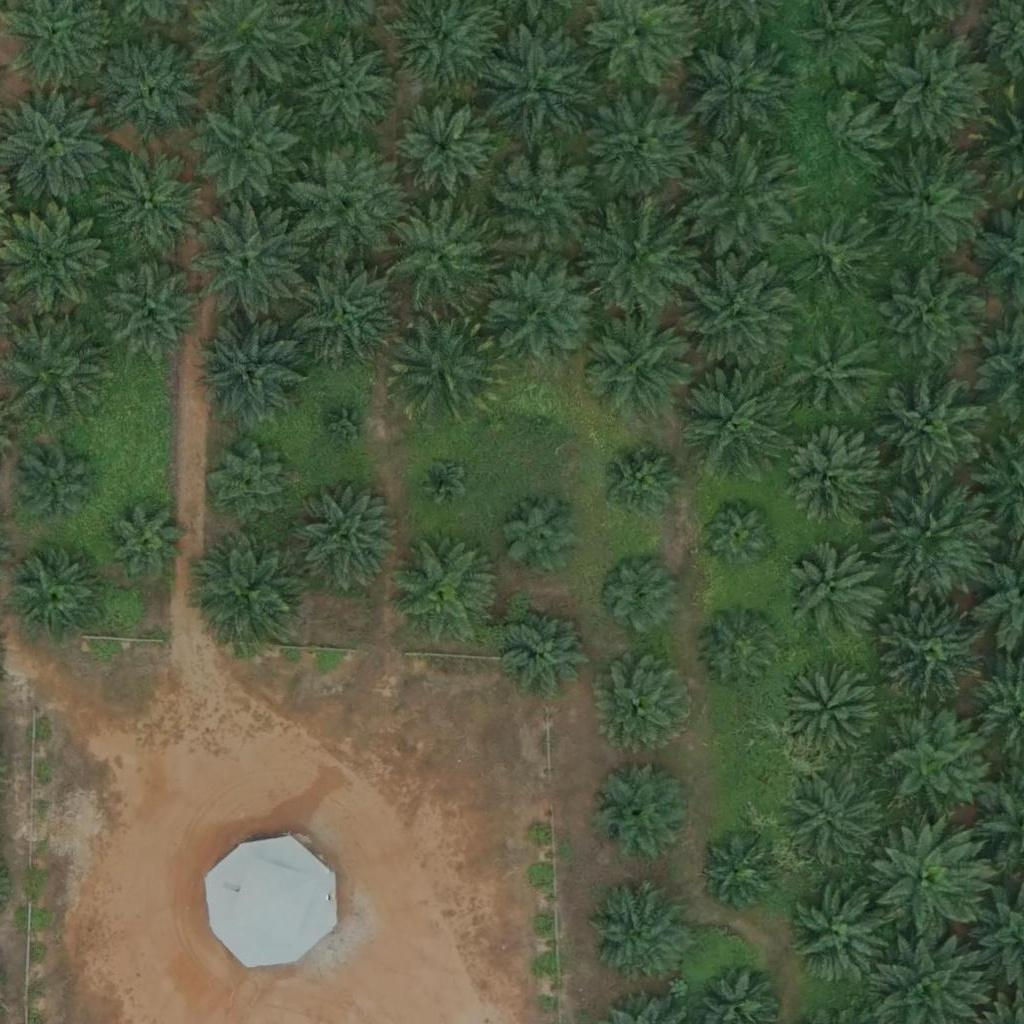Kelapa_Sawit: (678, 358, 791, 472), (581, 89, 694, 203), (578, 199, 691, 313), (481, 28, 594, 142), (878, 32, 991, 145), (869, 145, 982, 258), (875, 262, 988, 375), (583, 309, 696, 422), (485, 149, 598, 262), (193, 93, 306, 206), (193, 206, 306, 319), (196, 321, 309, 434), (91, 142, 204, 255), (196, 534, 309, 647), (877, 480, 990, 593), (878, 597, 991, 710), (875, 373, 987, 487), (682, 139, 794, 253), (684, 256, 796, 370), (388, 534, 500, 648), (387, 310, 499, 423), (680, 33, 792, 146), (490, 256, 602, 369), (385, 200, 497, 313), (285, 146, 397, 259), (289, 253, 401, 366), (2, 202, 114, 315), (1, 309, 113, 422), (289, 484, 401, 597), (873, 706, 985, 819), (872, 827, 984, 940), (394, 97, 494, 198), (296, 38, 396, 139), (102, 35, 202, 136), (103, 262, 203, 363), (586, 881, 686, 982), (778, 430, 878, 531), (784, 542, 884, 643), (779, 660, 879, 761), (782, 206, 882, 306), (786, 325, 886, 425), (596, 655, 696, 755), (591, 762, 691, 862), (789, 774, 889, 874), (791, 887, 891, 987), (12, 552, 100, 641), (799, 96, 887, 184), (505, 607, 593, 695), (208, 442, 295, 530), (499, 492, 586, 580), (598, 442, 685, 530), (595, 551, 682, 639), (697, 606, 784, 694), (21, 452, 96, 528), (702, 834, 777, 910), (107, 503, 182, 578), (700, 498, 775, 573), (323, 400, 373, 451), (417, 456, 467, 507), (514, 393, 564, 443)
